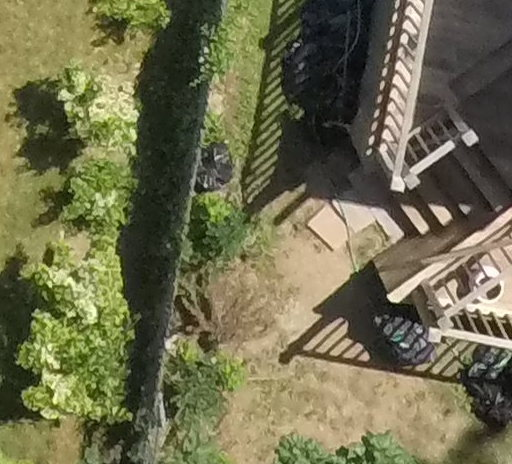container: (467, 262, 512, 314)
pot: (474, 258, 504, 309)
tarp: (374, 306, 439, 382), (195, 138, 239, 192)
